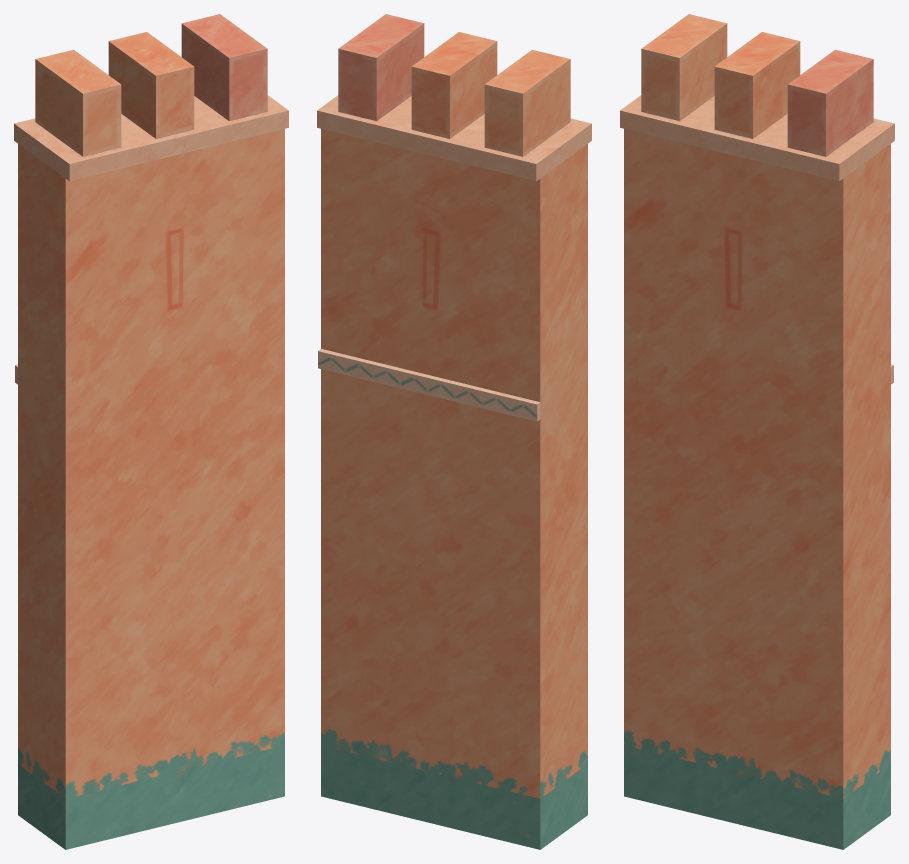
Rendered from townwall.bundle.fbx.
The picture shows the model from 3 angles, left to right: view 1: azimuth 30°, elevation 25°; view 2: azimuth 150°, elevation 25°; view 3: azimuth 330°, elevation 25°; orthographic projection.
Parts seen in each view (by area): view 1: townwall, townwall_s01, townwall_s03, townwall_low, townwall_s06, townwall_s12, townwall_s10, townwall_s11, townwall_s07, townwall_s08, townwall_s13, townwall_s05 (+4 smaller); view 2: townwall, townwall_low, townwall_s03, townwall_s12, townwall_s01, townwall_s08, townwall_s13, townwall_s07, townwall_s06, townwall_s10, townwall_s04, townwall_s09 (+4 smaller); view 3: townwall, townwall_s01, townwall_s03, townwall_low, townwall_s12, townwall_s11, townwall_s07, townwall_s06, townwall_s10, townwall_s05, townwall_s04, townwall_s09 (+4 smaller).
Boxes of the visible parts, x1=… form: townwall: x1=14, y1=15, x2=288, y2=849; townwall_s01: x1=89, y1=615, x2=284, y2=831; townwall_s03: x1=18, y1=181, x2=195, y2=367; townwall_low: x1=35, y1=14, x2=267, y2=156; townwall_s06: x1=158, y1=195, x2=284, y2=365; townwall_s12: x1=183, y1=539, x2=284, y2=736; townwall_s10: x1=16, y1=329, x2=160, y2=542; townwall_s11: x1=53, y1=385, x2=204, y2=572; townwall_s07: x1=161, y1=337, x2=284, y2=489; townwall_s08: x1=18, y1=649, x2=133, y2=849; townwall_s13: x1=15, y1=35, x2=187, y2=218; townwall_s05: x1=84, y1=531, x2=197, y2=626; townwall: x1=317, y1=15, x2=591, y2=849; townwall_low: x1=338, y1=14, x2=570, y2=156; townwall_s03: x1=421, y1=182, x2=582, y2=362; townwall_s12: x1=321, y1=535, x2=421, y2=764; townwall_s01: x1=321, y1=648, x2=493, y2=825; townwall_s08: x1=443, y1=672, x2=587, y2=849; townwall_s13: x1=409, y1=35, x2=589, y2=219; townwall_s07: x1=318, y1=335, x2=455, y2=509; townwall_s06: x1=321, y1=173, x2=461, y2=363; townwall_s10: x1=454, y1=360, x2=583, y2=532; townwall_s04: x1=317, y1=37, x2=460, y2=173; townwall_s09: x1=321, y1=135, x2=396, y2=234; townwall: x1=620, y1=15, x2=894, y2=849; townwall_s01: x1=634, y1=592, x2=890, y2=849; townwall_s03: x1=624, y1=166, x2=754, y2=355; townwall_low: x1=641, y1=14, x2=873, y2=156; townwall_s12: x1=744, y1=550, x2=890, y2=790; townwall_s11: x1=624, y1=380, x2=762, y2=540; townwall_s07: x1=719, y1=352, x2=893, y2=504; townwall_s06: x1=717, y1=206, x2=890, y2=390; townwall_s10: x1=624, y1=314, x2=719, y2=485; townwall_s05: x1=642, y1=527, x2=756, y2=615; townwall_s04: x1=738, y1=57, x2=892, y2=206; townwall_s09: x1=758, y1=154, x2=890, y2=317.
Size of the model in its own units: 8 by 26.2 by 3.5.
1 material, 1 textured.
